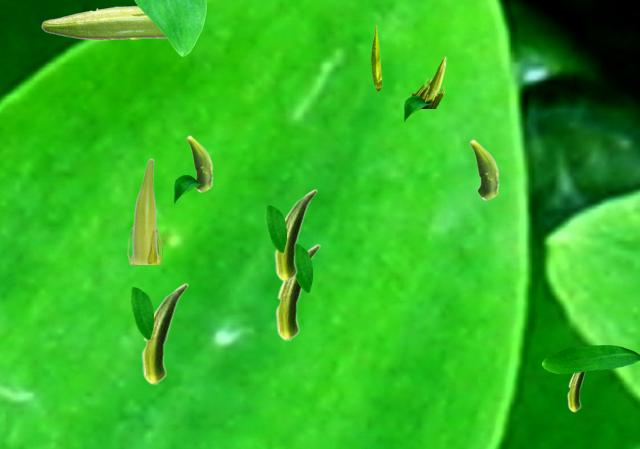okra: (141, 283, 187, 384), (275, 244, 319, 340), (41, 5, 165, 39), (274, 189, 316, 281), (126, 158, 161, 263), (409, 56, 446, 107), (469, 139, 498, 199), (186, 135, 212, 191), (567, 372, 585, 411), (371, 25, 381, 90)
